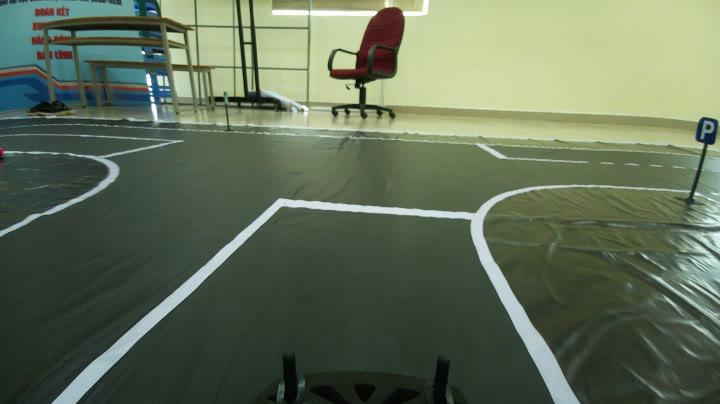parking: (694, 114, 720, 150)
